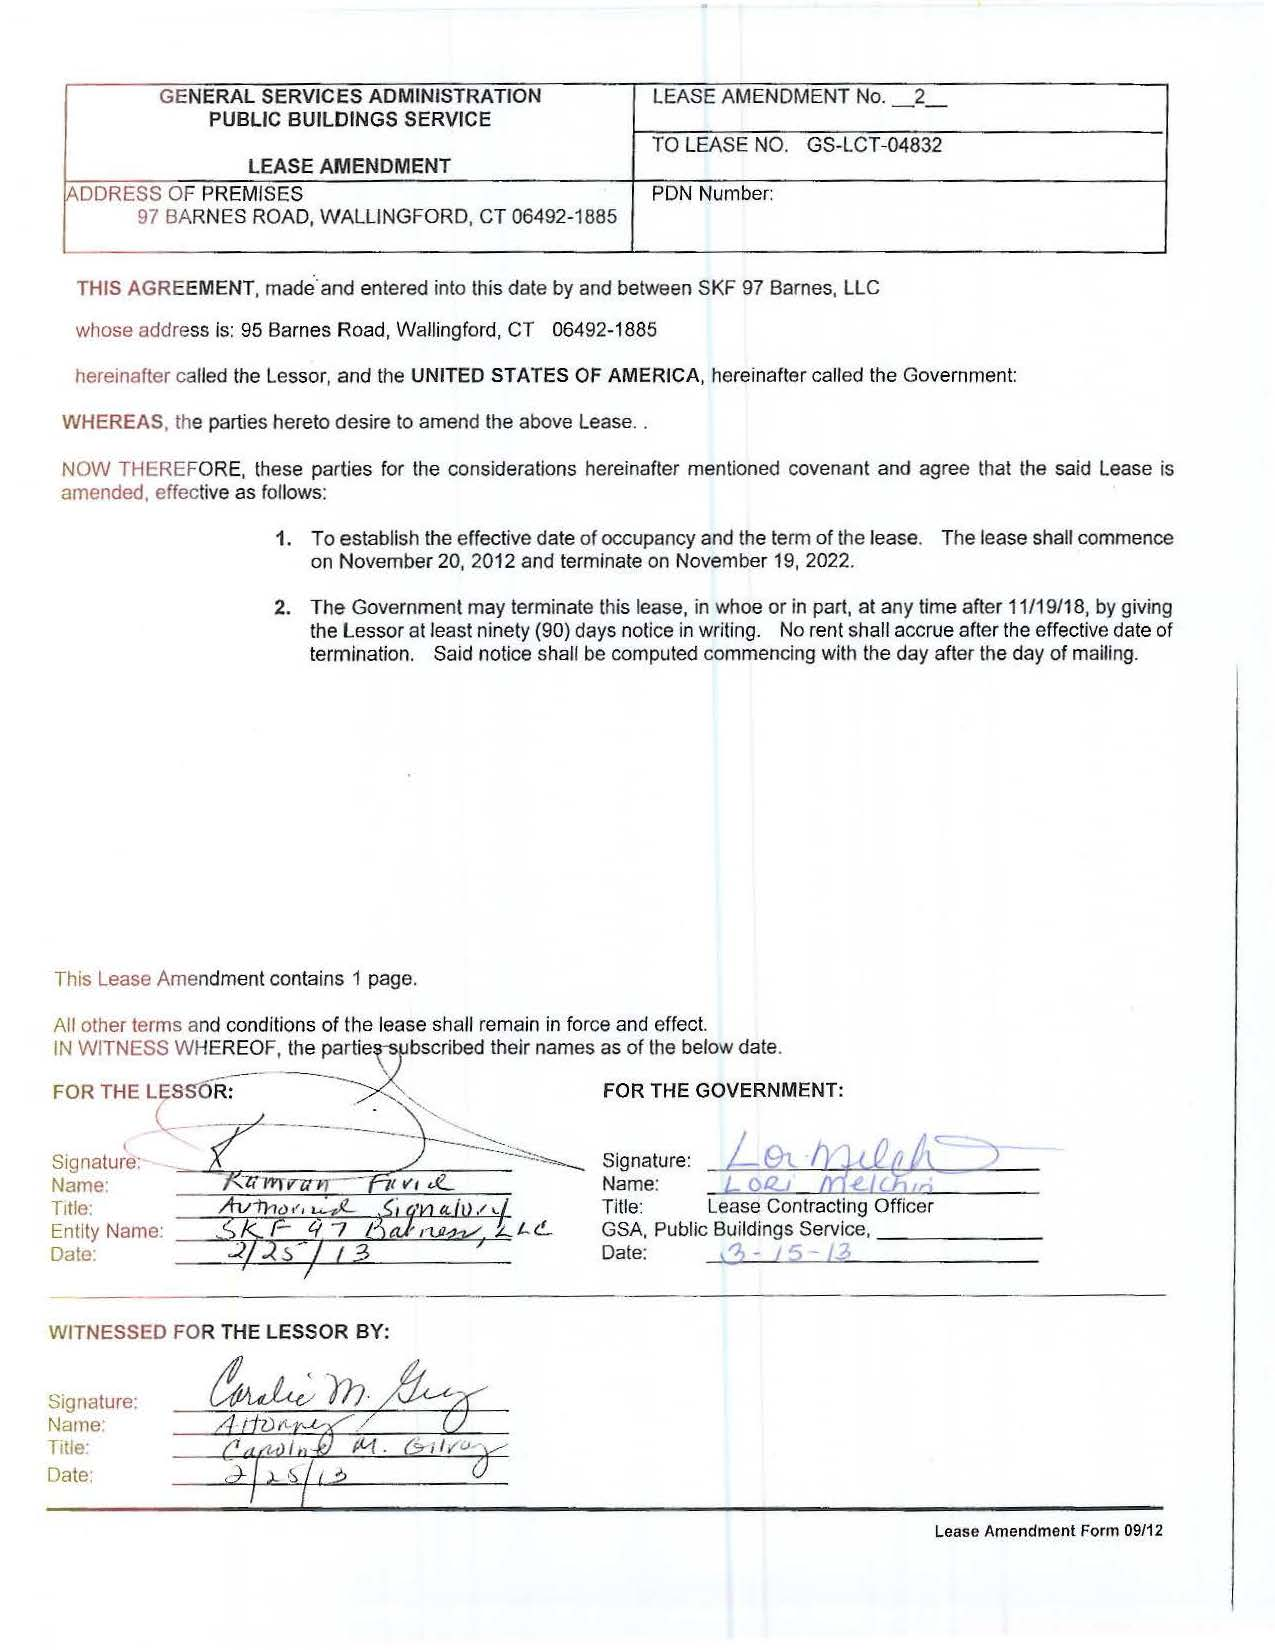handwritten: (137, 1050, 600, 1176), (204, 1349, 494, 1420), (712, 1116, 1033, 1175), (208, 1432, 514, 1468), (217, 1404, 470, 1438), (204, 1191, 532, 1217), (208, 1165, 478, 1195), (710, 1169, 955, 1199), (710, 1227, 871, 1271), (200, 1219, 561, 1236), (208, 1450, 354, 1491), (214, 1236, 395, 1266)
